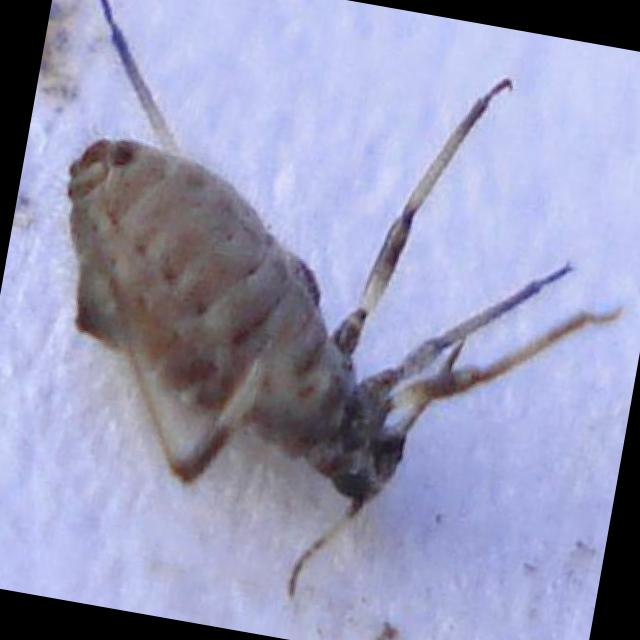aphid: (0, 19, 623, 601)
